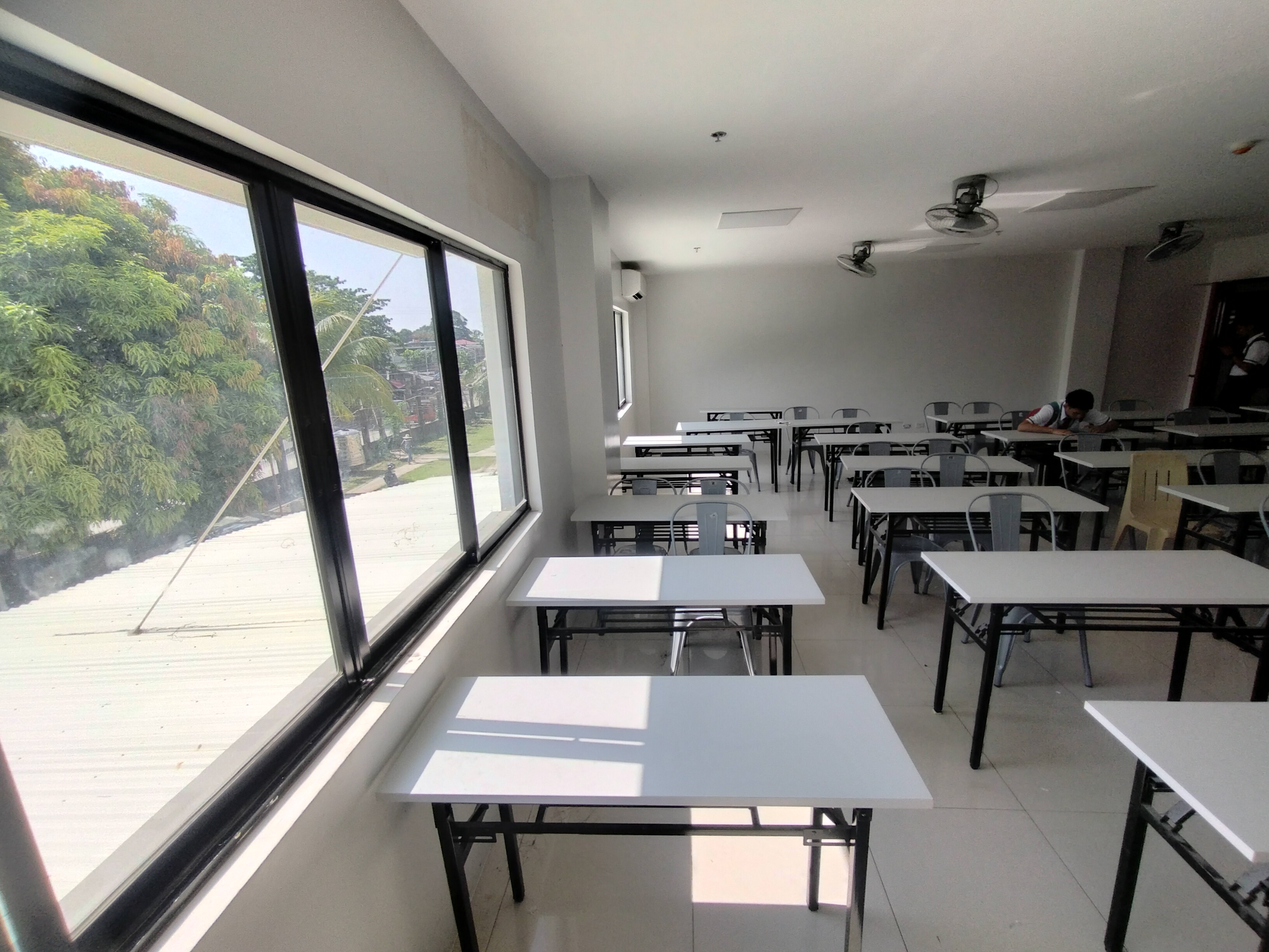with-student: (977, 382, 1157, 449)
